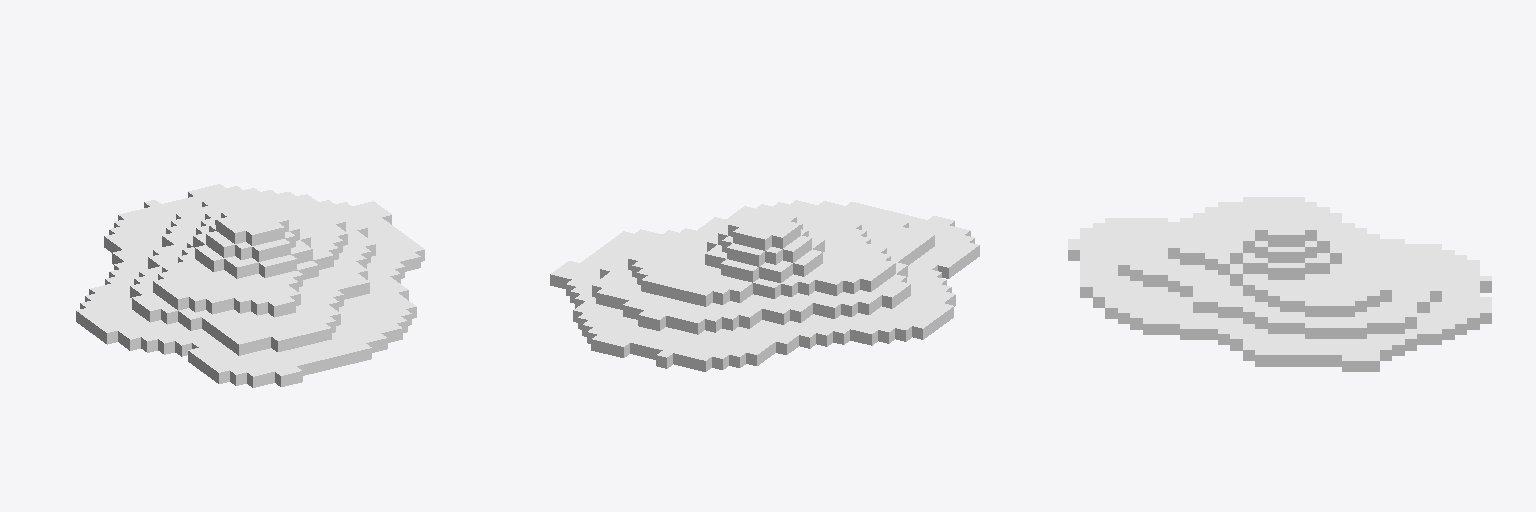
File: Eggy.obj
The picture shows the model from 3 angles: view 1: azimuth 30°, elevation 25°; view 2: azimuth 150°, elevation 25°; view 3: azimuth 270°, elevation 25°; orthographic projection.
Visible parts, largest first — view 1: Eggy; view 2: Eggy; view 3: Eggy.
Boxes of the visible parts, x1,y1,x2,y2 form: Eggy: [76, 184, 424, 387]; Eggy: [550, 200, 979, 371]; Eggy: [1068, 197, 1491, 371].
Size of the model in its own units: 31 by 6 by 34.